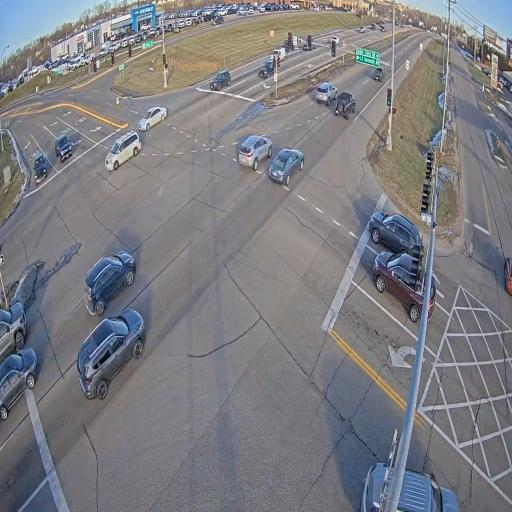pickup: (54, 135, 72, 163), (34, 155, 46, 184), (373, 67, 385, 82), (303, 39, 317, 50)
sedan: (269, 148, 304, 185), (138, 106, 167, 130), (331, 36, 339, 44), (381, 26, 386, 31)
suv: (77, 308, 145, 400), (372, 251, 425, 322), (84, 250, 136, 316), (0, 348, 39, 420), (397, 470, 458, 512), (368, 211, 420, 255), (0, 302, 27, 363), (358, 462, 387, 512), (335, 91, 356, 119), (316, 82, 337, 106), (210, 70, 231, 91), (428, 277, 436, 320), (259, 58, 274, 77), (283, 40, 290, 52), (380, 20, 386, 28), (359, 26, 365, 33), (370, 23, 376, 29)
van: (105, 130, 141, 170), (272, 46, 286, 60), (212, 16, 223, 25)
